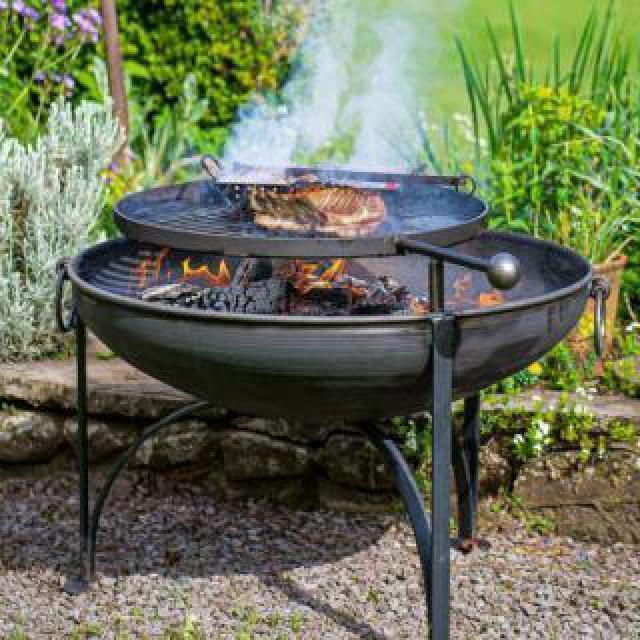Fire: (287, 255, 352, 282), (176, 256, 232, 286)
Smoke: (218, 124, 358, 184)
